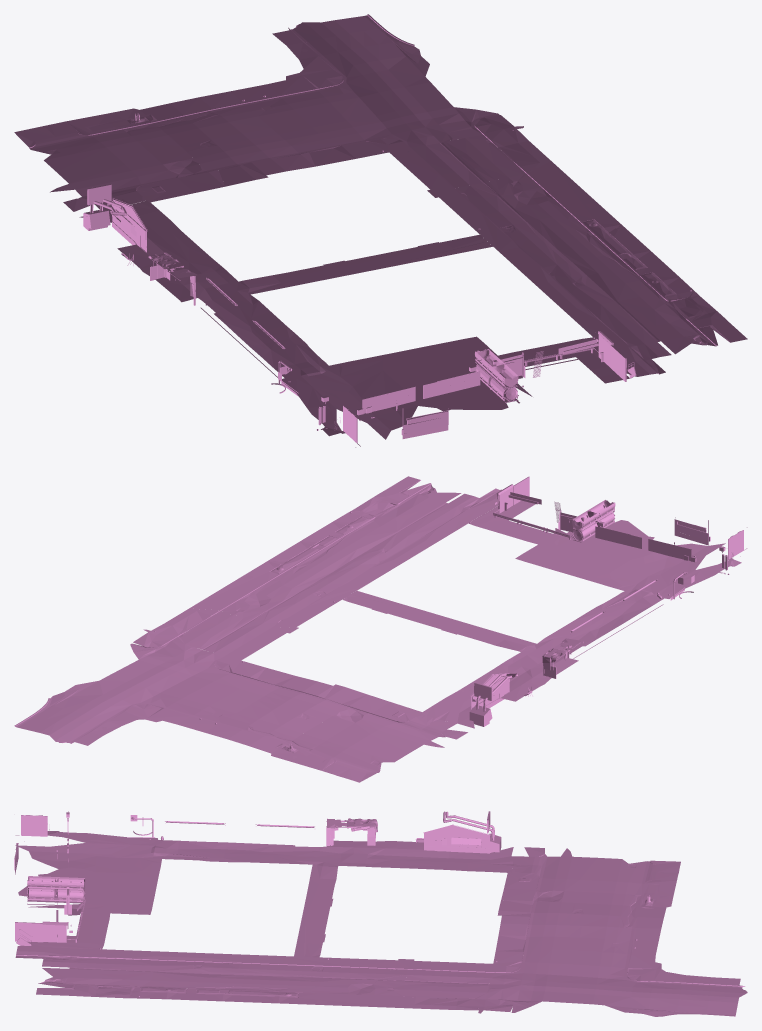
The model's file is sss.obj.
3 views of the same model, one above another, from view 1: azimuth 30°, elevation 25°; view 2: azimuth 150°, elevation 25°; view 3: azimuth 270°, elevation 25° (orthographic). The views are drawn at different scales.
Parts seen in each view (by area): view 1: Box_3311; view 2: Box_3311; view 3: Box_3311.
Part boxes in pixels (x1=…): Box_3311: x1=14, y1=14, x2=747, y2=447; Box_3311: x1=14, y1=476, x2=747, y2=782; Box_3311: x1=14, y1=811, x2=747, y2=1016.
Size of the model in its own units: 93.47 by 9.89 by 157.
